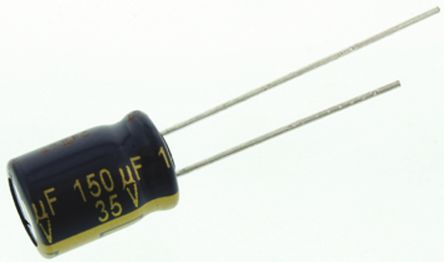capacitor: (7, 98, 205, 262)
